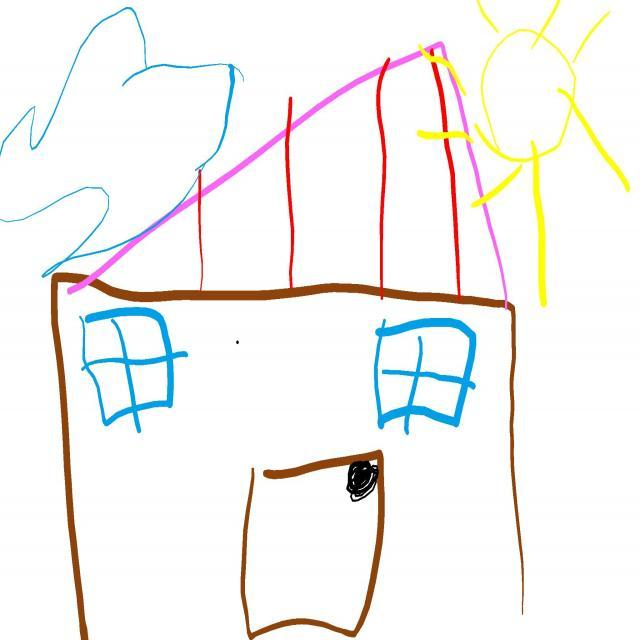door: (241, 452, 385, 640)
house: (46, 37, 531, 640)
roof: (71, 35, 512, 308)
sun: (412, 0, 635, 313)
wall: (55, 276, 524, 640)
window: (80, 308, 188, 434), (375, 319, 477, 434)
